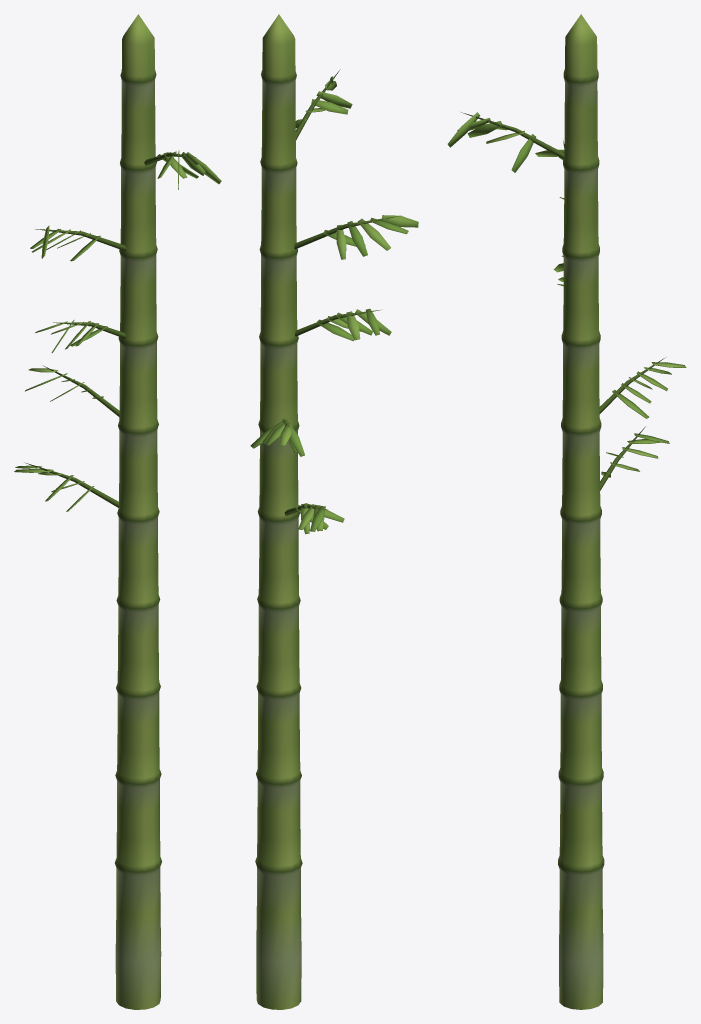
Rendered from Night_Bamboo.fbx.
3 views of the same model, side by side, from view 1: azimuth 30°, elevation 25°; view 2: azimuth 150°, elevation 25°; view 3: azimuth 270°, elevation 25° (orthographic).
Parts seen in each view (by area): view 1: Night_Bamboo; view 2: Night_Bamboo; view 3: Night_Bamboo.
Part boxes in pixels (x1,y1,x2,y2): Night_Bamboo: (14, 14, 221, 1009); Night_Bamboo: (250, 14, 418, 1009); Night_Bamboo: (447, 14, 686, 1009).
Size of the model in its own units: 7.42 by 48.5 by 10.65.
